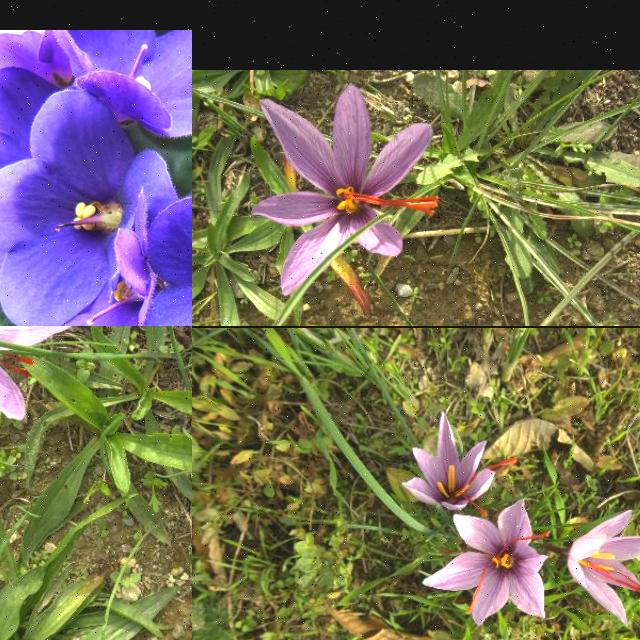flower: (251, 84, 439, 296), (423, 498, 551, 626), (401, 412, 517, 518), (566, 510, 640, 627)
